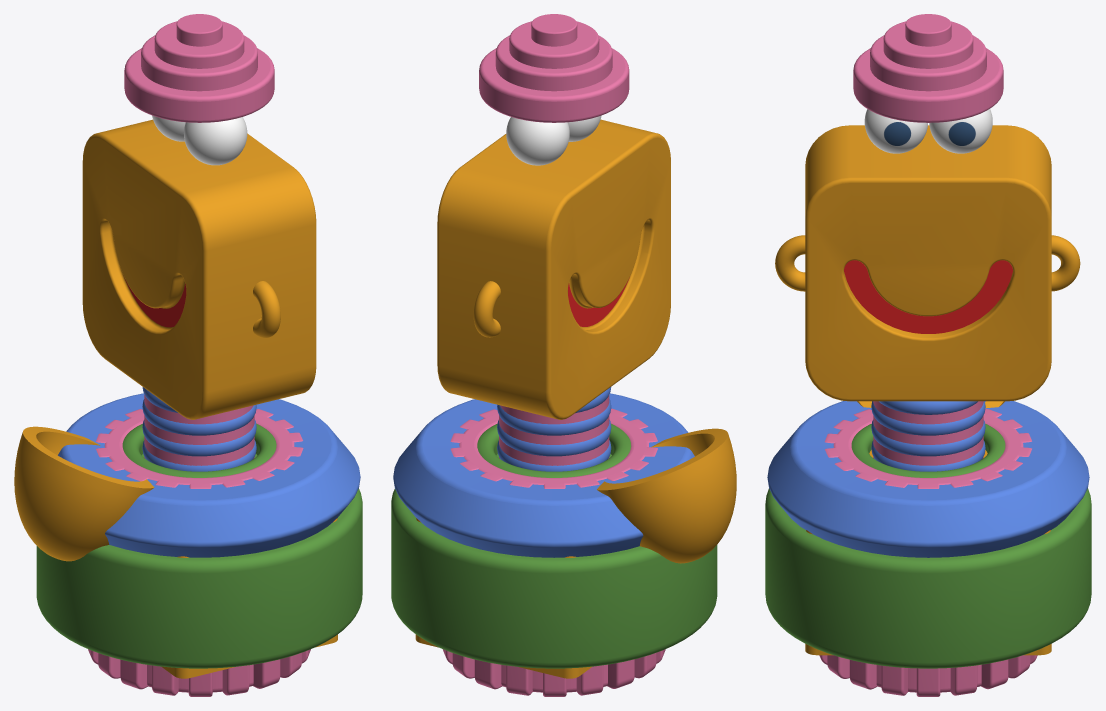
The model's file is flippers.glb.
3 views of the same model, side by side, from view 1: azimuth 30°, elevation 25°; view 2: azimuth 150°, elevation 25°; view 3: azimuth 270°, elevation 25° (orthographic).
Visible parts, largest first — view 1: mouth, body_2, body_1, hat, body_3, body_4, neck_3, neck_2, leftEye, rightEye; view 2: mouth, body_2, body_1, hat, body_3, body_4, neck_3, neck_2, rightEye, leftEye; view 3: mouth, body_2, body_1, hat, body_4, neck_3, neck_2, rightEye, leftEye, body_3.
Boxes of the visible parts, x1,y1,x2,y2 form: mouth: [82, 119, 316, 419]; body_2: [36, 423, 362, 668]; body_1: [58, 393, 360, 557]; hat: [124, 14, 274, 122]; body_3: [14, 426, 337, 678]; body_4: [88, 409, 310, 696]; neck_3: [142, 387, 256, 471]; neck_2: [144, 394, 254, 465]; leftEye: [184, 117, 247, 165]; rightEye: [152, 115, 185, 141]; mouth: [437, 119, 670, 419]; body_2: [391, 423, 717, 668]; body_1: [393, 393, 694, 557]; hat: [479, 14, 629, 122]; body_3: [415, 428, 736, 678]; body_4: [442, 408, 665, 696]; neck_3: [497, 387, 611, 471]; neck_2: [499, 395, 609, 465]; rightEye: [506, 117, 569, 165]; leftEye: [567, 115, 601, 141]; mouth: [775, 125, 1080, 401]; body_2: [765, 423, 1091, 668]; body_1: [767, 401, 1089, 557]; hat: [853, 14, 1003, 122]; body_4: [819, 409, 1037, 696]; neck_3: [871, 401, 985, 471]; neck_2: [873, 401, 983, 465]; rightEye: [929, 109, 992, 153]; leftEye: [864, 109, 927, 153]; body_3: [805, 401, 1051, 655].
Size of the model in its own units: 2.94 by 5.64 by 2.65.
Materials: 7 (1 with a texture image).
